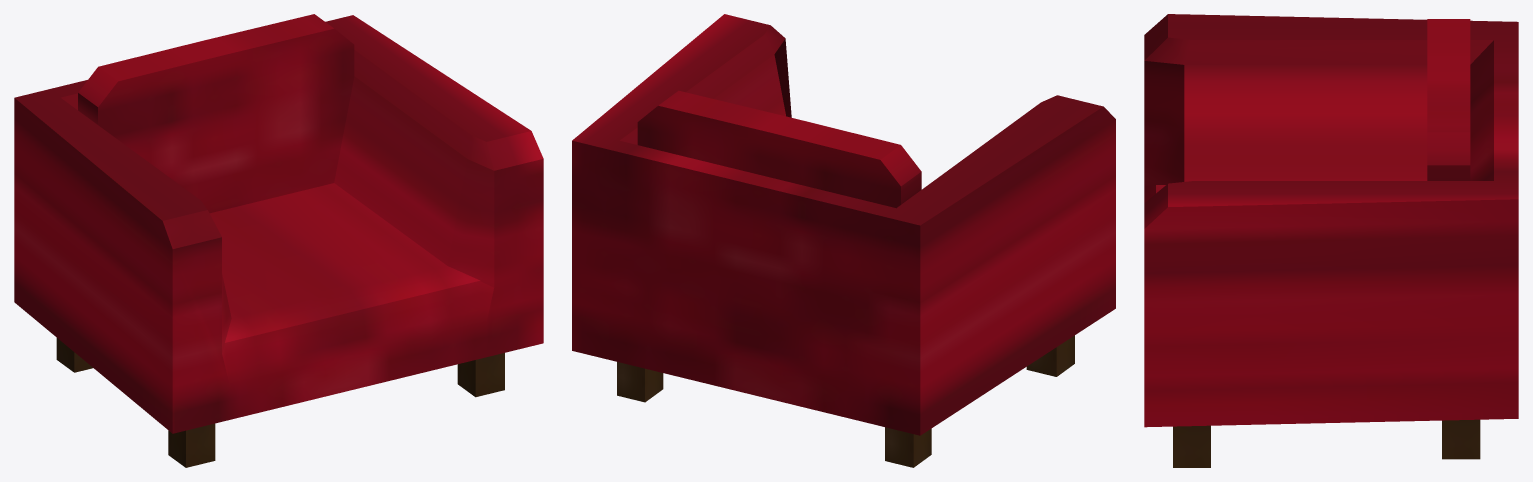
The model's file is lounge_chair.fbx.
The picture shows the model from 3 angles, left to right: view 1: azimuth 30°, elevation 25°; view 2: azimuth 150°, elevation 25°; view 3: azimuth 270°, elevation 25°; orthographic projection. The views are drawn at different scales.
Parts seen in each view (by area): view 1: pCube12; view 2: pCube12; view 3: pCube12.
Part boxes in pixels (box(x1,y1,x2,y2)): pCube12: box(14, 14, 543, 467); pCube12: box(572, 14, 1115, 467); pCube12: box(1144, 14, 1518, 467).
Size of the model in its own units: 7.89 by 6.43 by 5.85.
